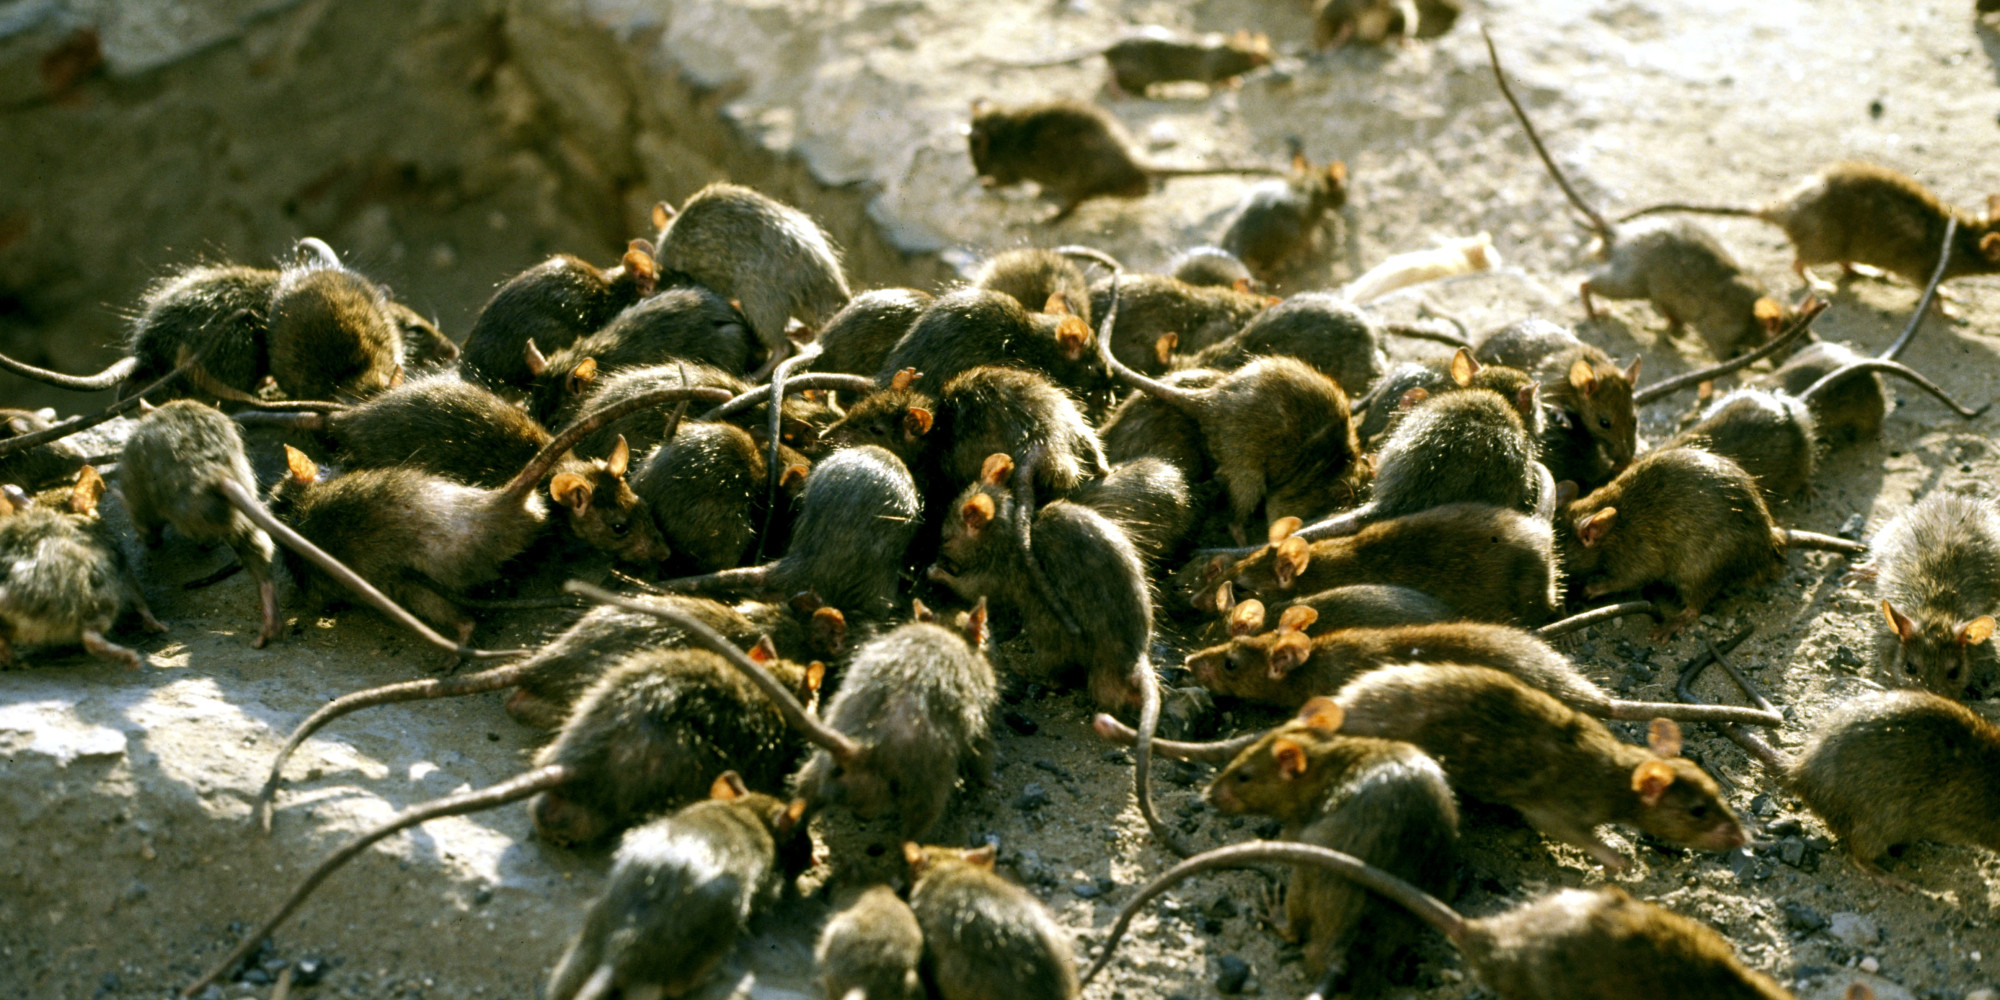rat: (1219, 645, 1718, 867), (508, 631, 841, 865), (1431, 668, 1756, 906), (807, 585, 1026, 890), (1173, 597, 1671, 728), (1546, 165, 1816, 403), (246, 429, 571, 622), (550, 767, 814, 1000), (810, 328, 1122, 522), (88, 381, 307, 643), (1756, 135, 2000, 316), (946, 82, 1212, 239), (522, 276, 788, 416), (1849, 571, 2000, 731)
